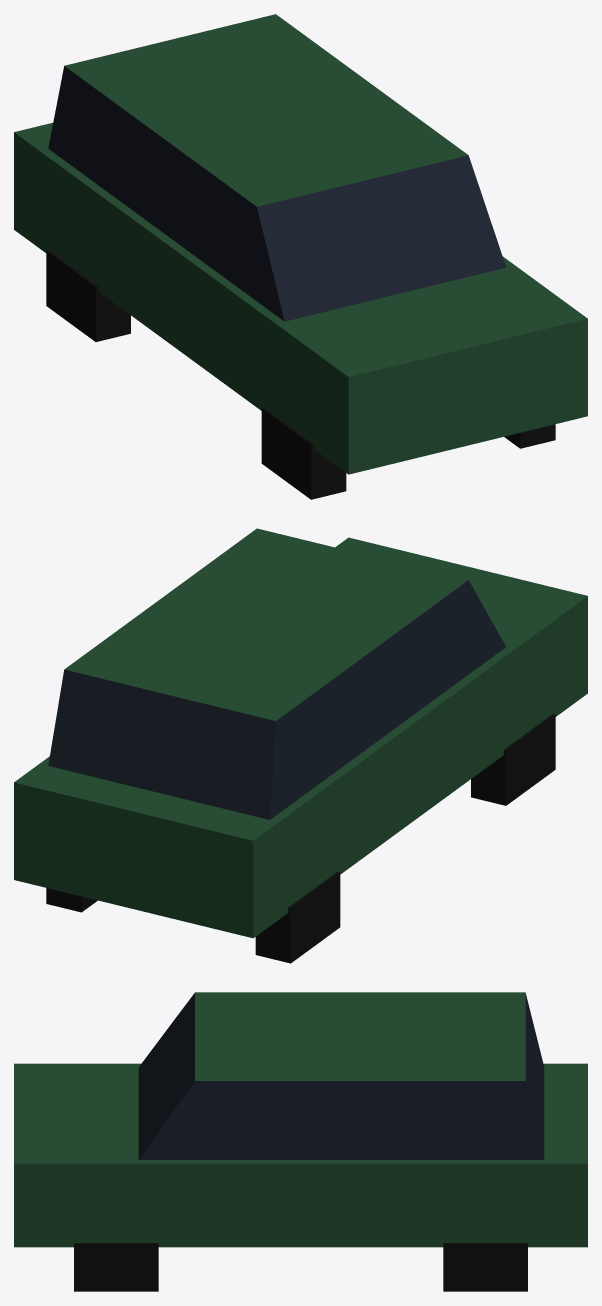
File: car_suv_green.obj
3 views of the same model, one above another, from view 1: azimuth 30°, elevation 25°; view 2: azimuth 150°, elevation 25°; view 3: azimuth 270°, elevation 25° (orthographic). The views are drawn at different scales.
Visible parts, largest first — view 1: car_suv_green; view 2: car_suv_green; view 3: car_suv_green.
Boxes of the visible parts, x1,y1,x2,y2 form: car_suv_green: [14, 14, 587, 499]; car_suv_green: [14, 528, 587, 963]; car_suv_green: [14, 992, 587, 1291].
Bounding box in the file's own units: 1.94 × 1.8 × 4.6.
